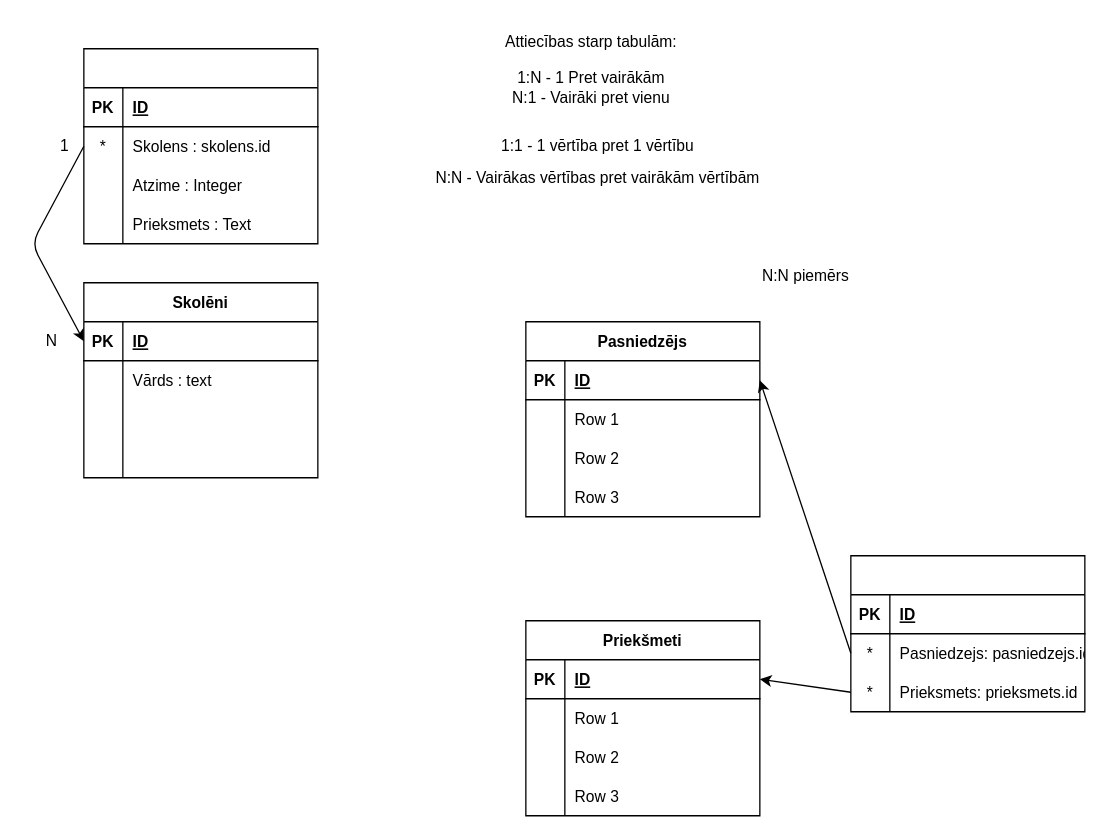
The diagram is 1113 pixels wide and 838 high, and some of its shapes have lost their labels. The box of each missing label's shape, as (x1, y1, x2, y2) in pixels:
Atzīmes: (83, 47, 318, 244)
PasniedzejaPrieksmeti: (850, 554, 1085, 712)
